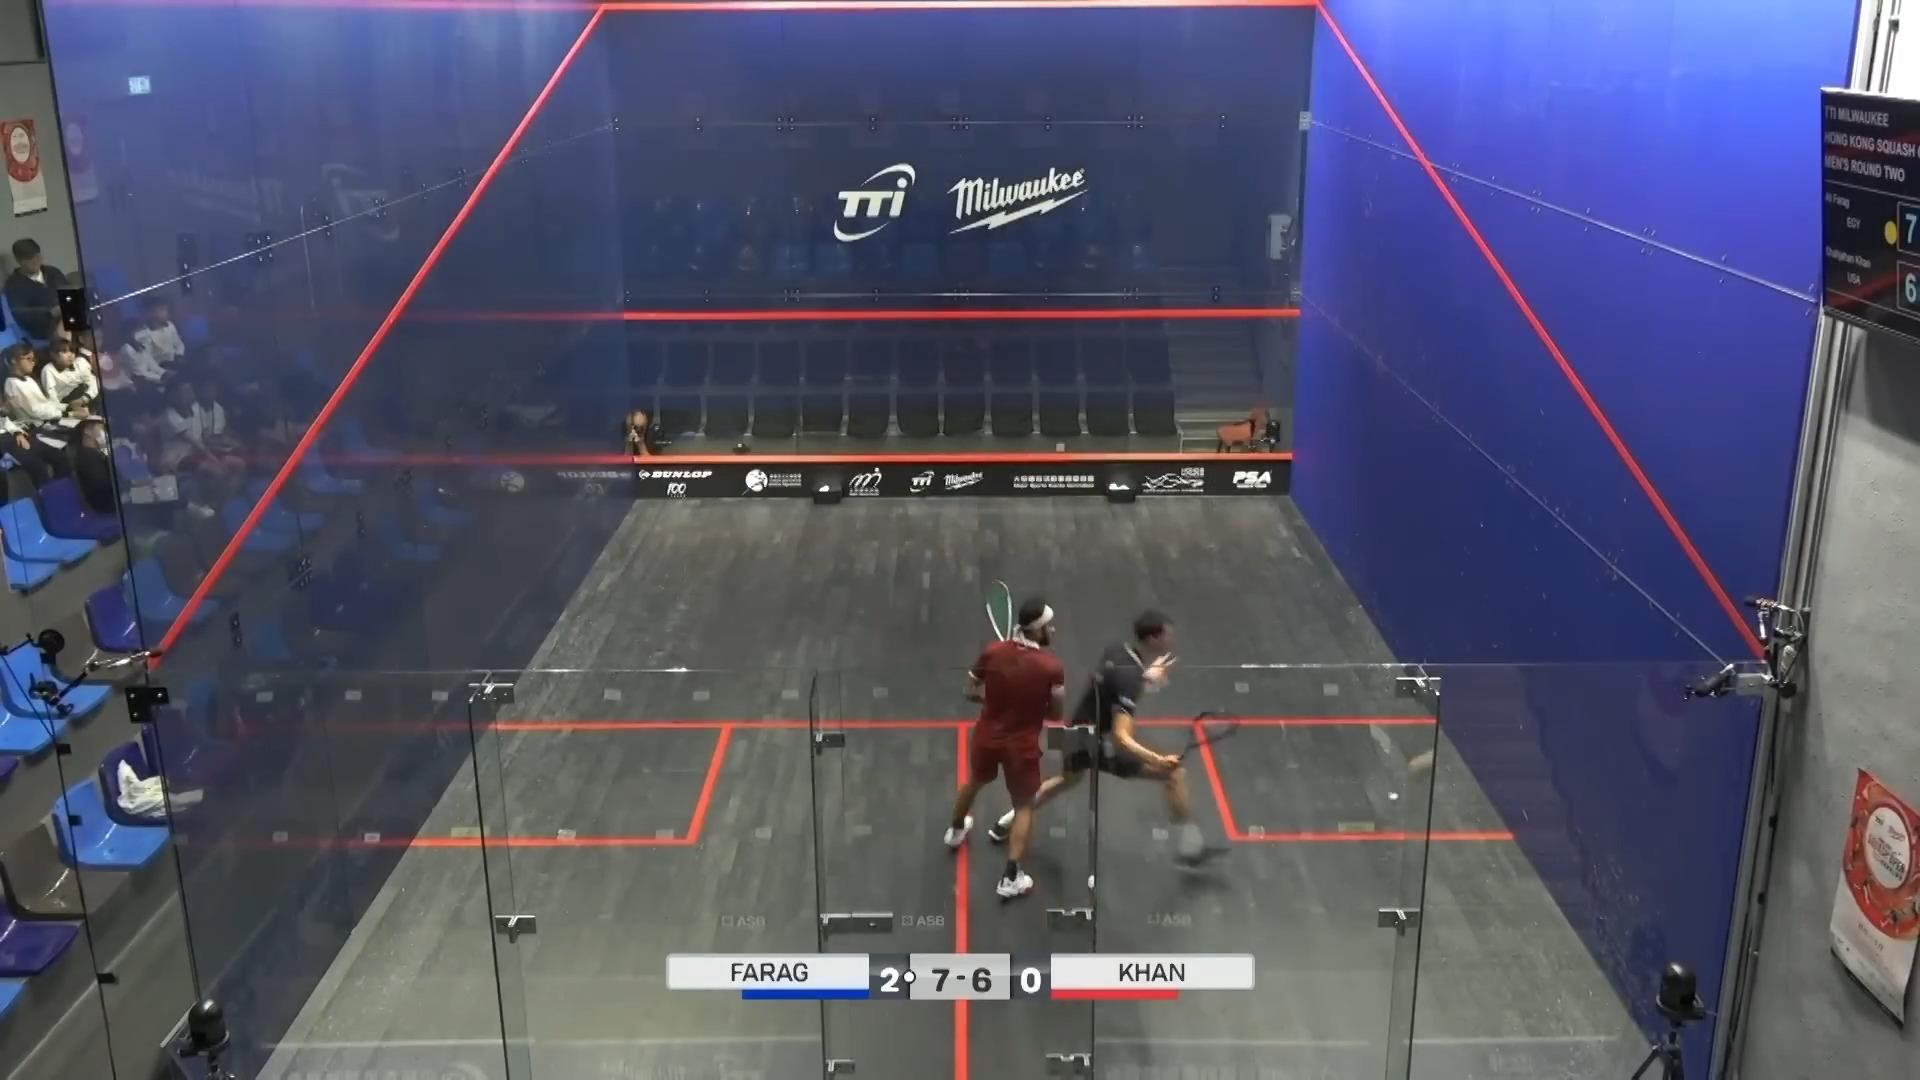Racket: (1135, 702, 1244, 771), (975, 584, 1014, 651)
